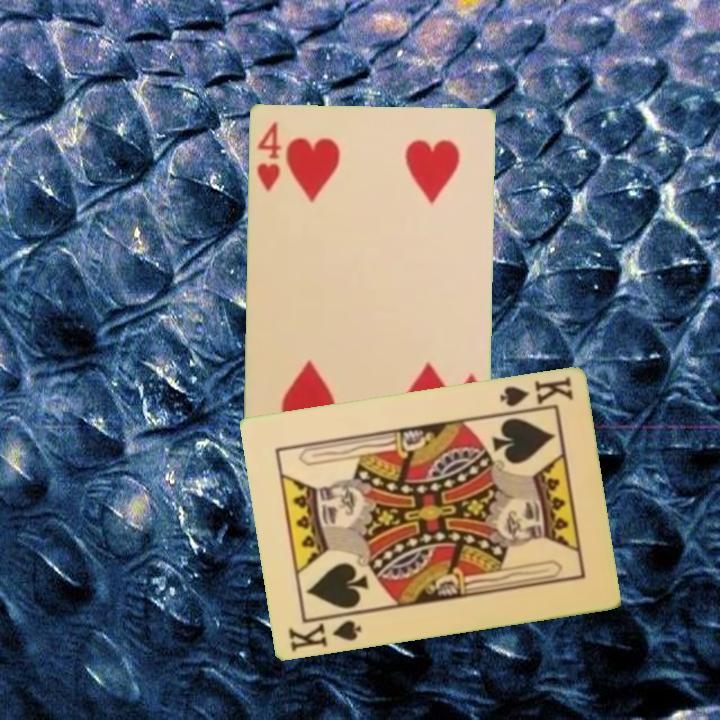4h: (253, 118, 284, 194)
Ks: (284, 611, 364, 656), (495, 374, 576, 416)
